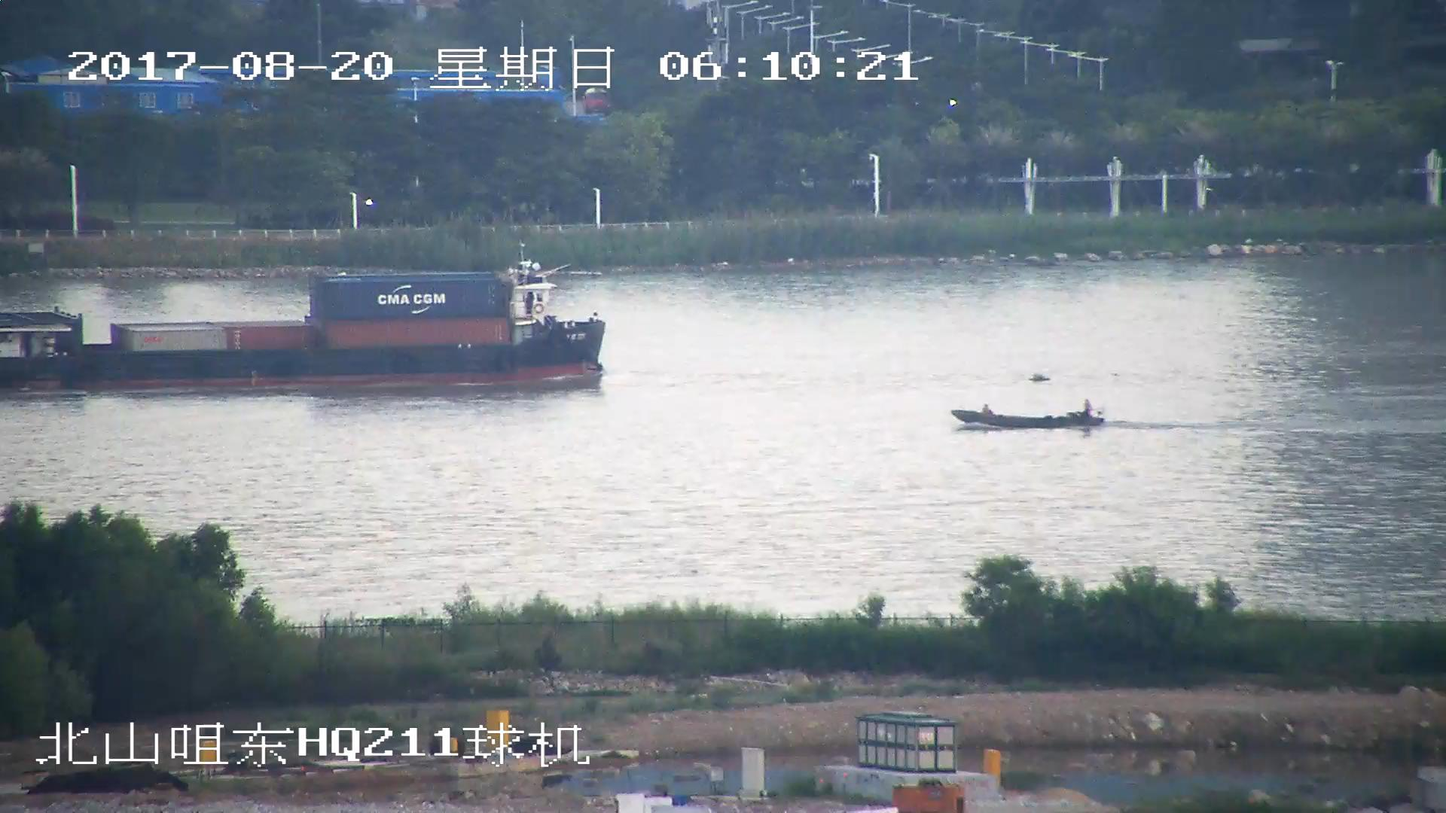container ship: (0, 259, 604, 380)
fishing boat: (949, 401, 1100, 433)
